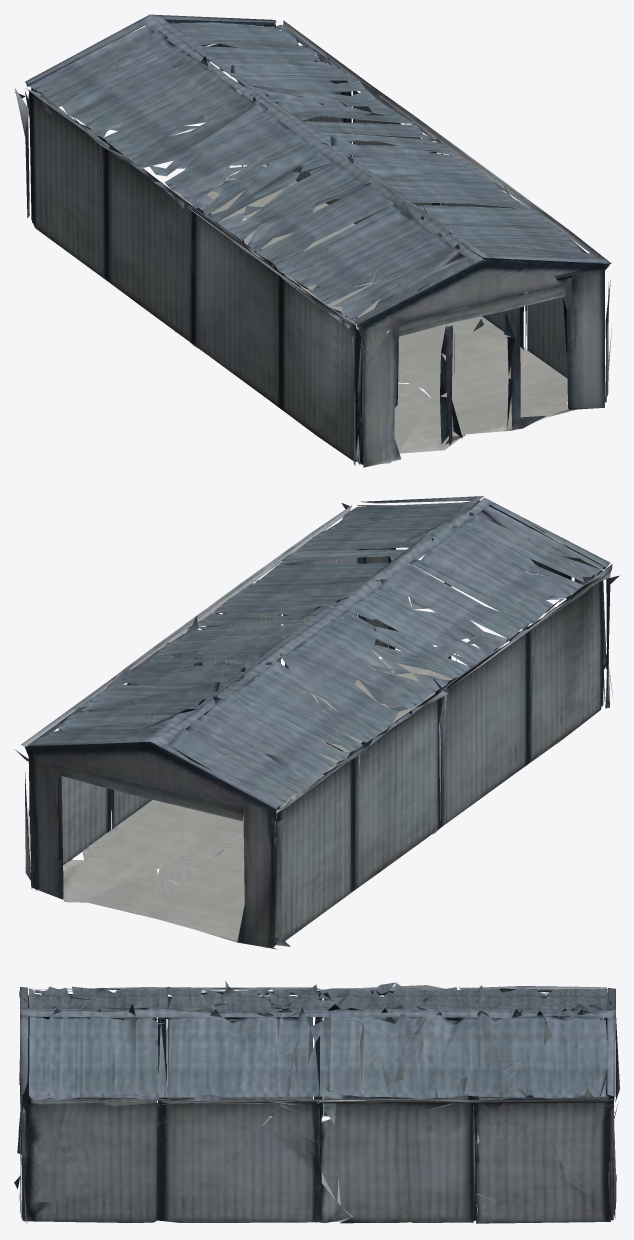
File: hafen_lagerhalle_lo.glb
3 renders of one model, top to bottom at view 1: azimuth 30°, elevation 25°; view 2: azimuth 150°, elevation 25°; view 3: azimuth 270°, elevation 25°, orthographic. The views are drawn at different scales.
Parts seen in each view (by area): view 1: Prop; view 2: Prop; view 3: Prop.
Boxes of the visible parts, <box> form: Prop: <box>14,14,612,467</box>; Prop: <box>14,496,619,949</box>; Prop: <box>14,981,619,1223</box>.
Bounding box in the file's own units: 1.61 × 1.08 × 3.41.
1 material, 1 textured.
